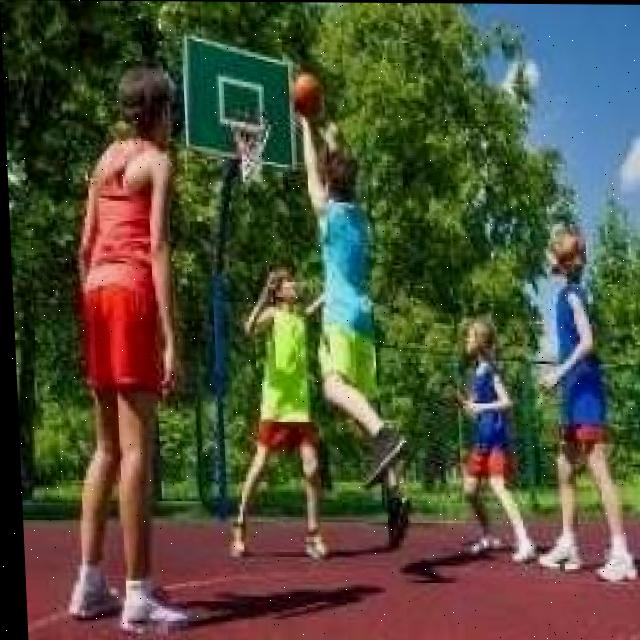basketball: (288, 72, 322, 117)
hoop: (227, 107, 281, 187)
